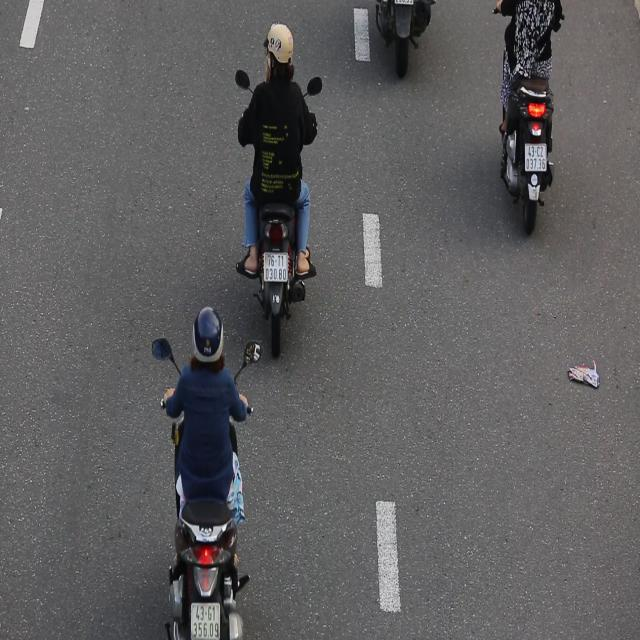motorbike: (158, 302, 258, 640), (233, 12, 327, 361)
